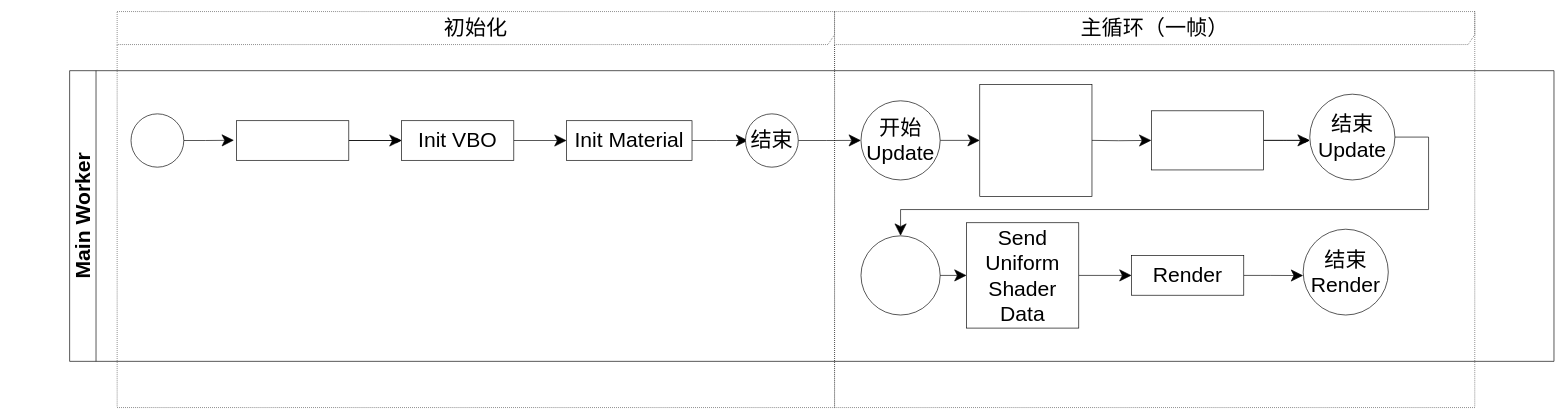
The diagram is 1566 pixels wide and 419 high, and some of its shapes have lost their labels. Here are the shapes that lost their labels. From the top down, the centre of each, then its label:
At pixel 157 140: "开始".
At pixel 292 140: "Create GL".
At pixel 1035 140: "Compute Physics And Update".
At pixel 1207 140: "Update Transform".
At pixel 900 275: "开始Render".
